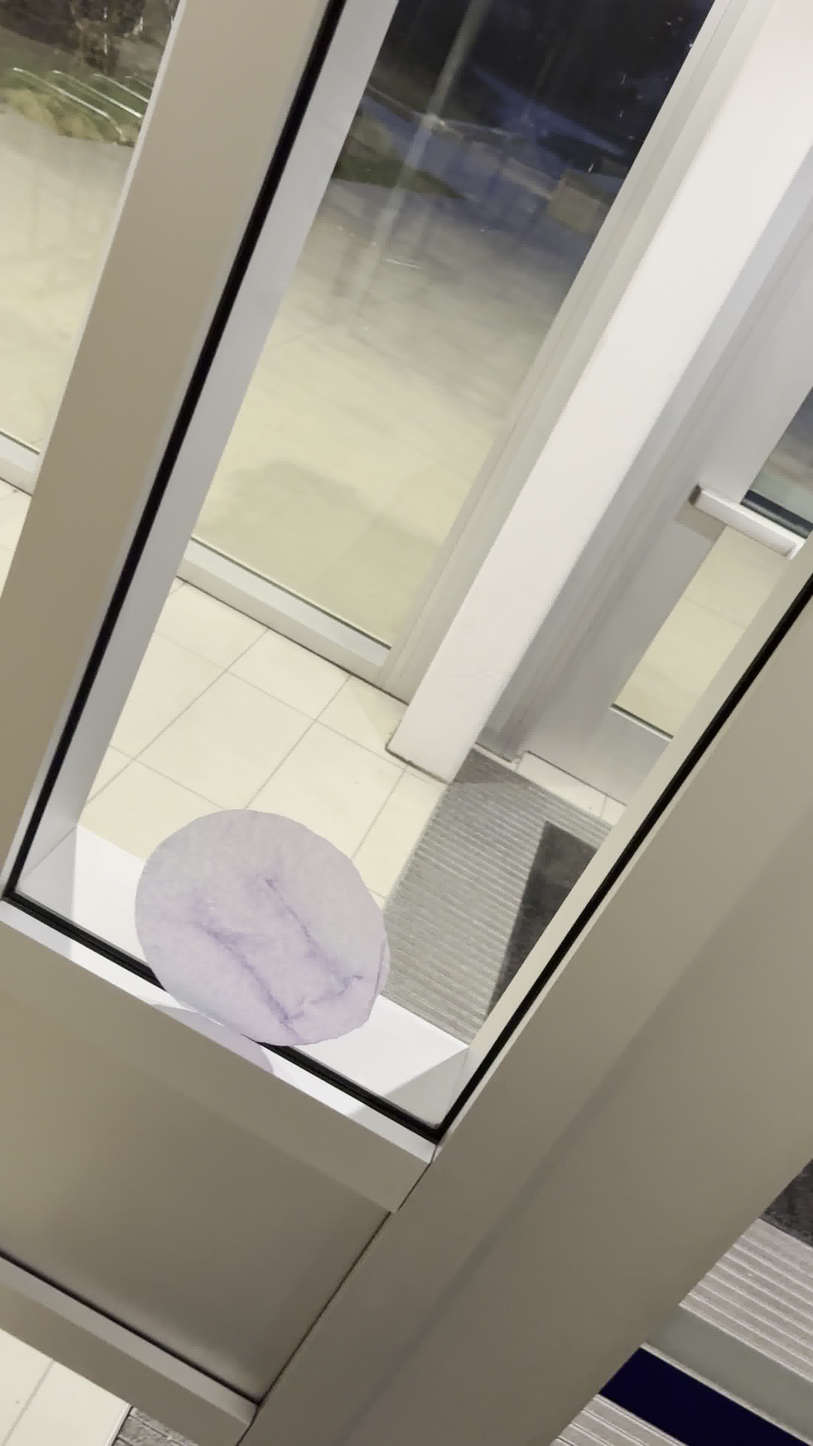Target: (128, 802, 389, 1053)
